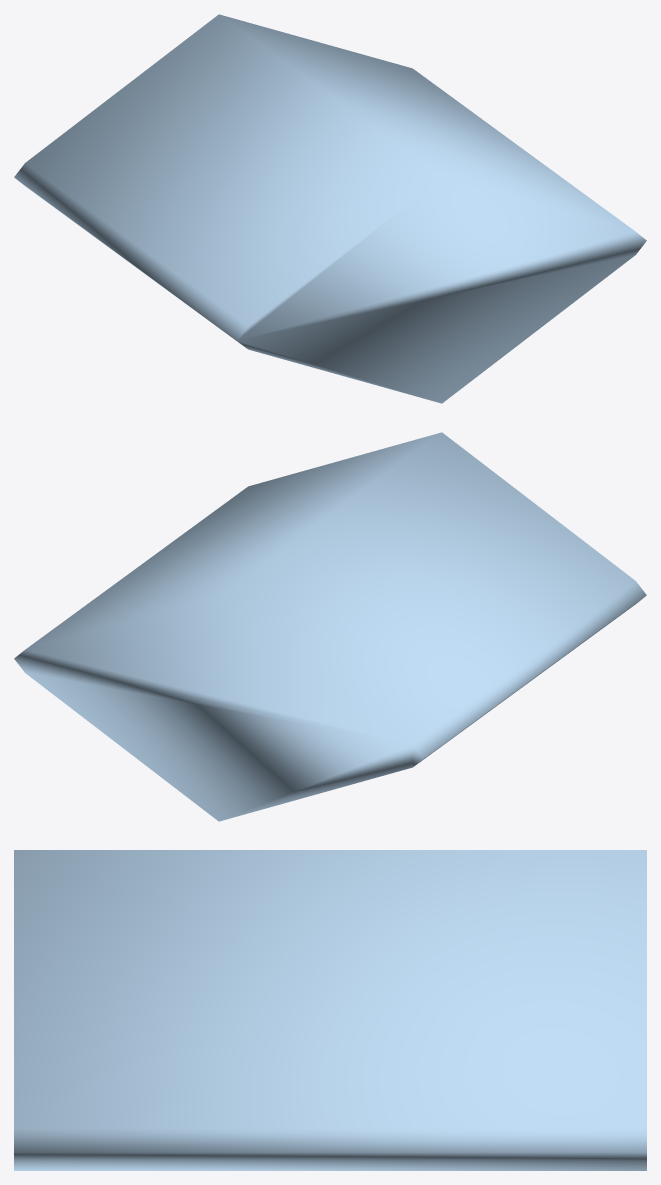
File: topaz-tabular.glb
3 renders of one model, top to bottom at view 1: azimuth 30°, elevation 25°; view 2: azimuth 150°, elevation 25°; view 3: azimuth 270°, elevation 25°, orthographic. The views are drawn at different scales.
Parts seen in each view (by area): view 1: topaz-tabular; view 2: topaz-tabular; view 3: topaz-tabular.
Part boxes in pixels (bbox=[...]): topaz-tabular: bbox=[14, 14, 646, 403]; topaz-tabular: bbox=[14, 432, 646, 821]; topaz-tabular: bbox=[14, 850, 646, 1170].
Bounding box in the file's own units: 0.8485 × 0.4472 × 0.8.
